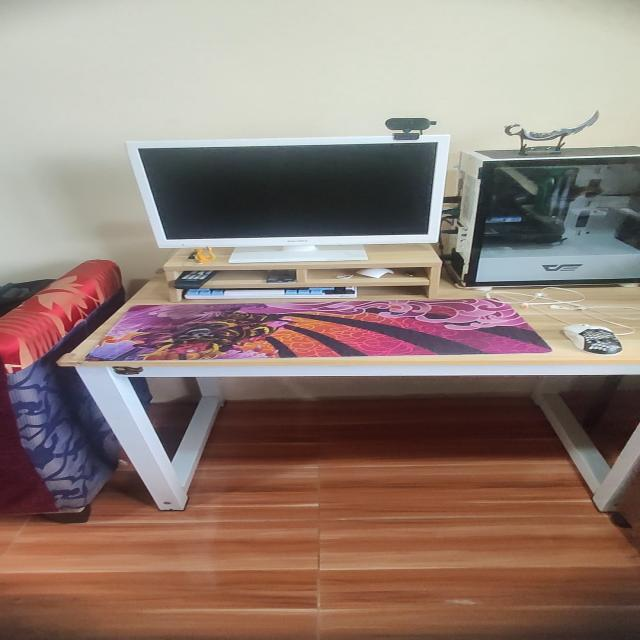table: (53, 267, 640, 509)
